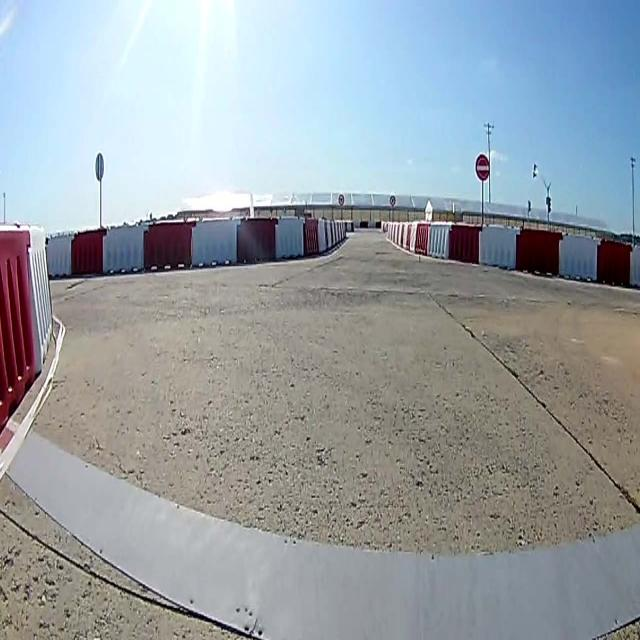girisyok: (474, 153, 490, 182)
